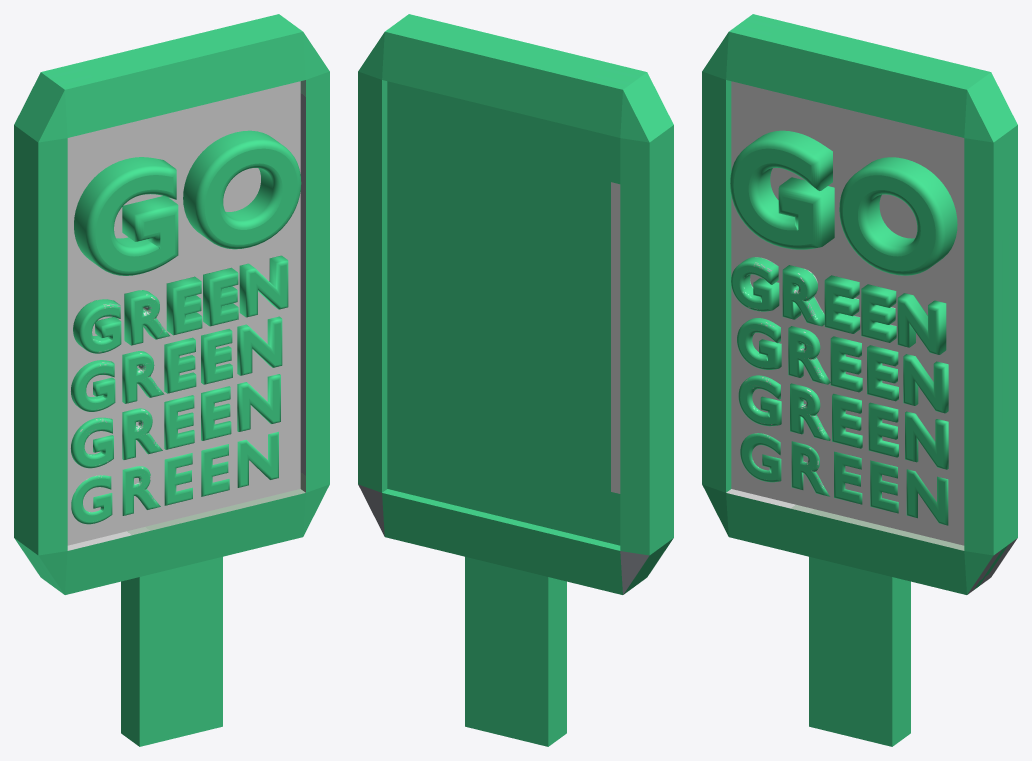
Rendered from SLOGAN.fbx.
3 views of the same model, side by side, from view 1: azimuth 30°, elevation 25°; view 2: azimuth 150°, elevation 25°; view 3: azimuth 330°, elevation 25° (orthographic).
Parts seen in each view (by area): view 1: Cube.001, Text.002, Cube, Text.007, Text.001, Text.006, Text.005; view 2: Cube.001, Cube; view 3: Cube.001, Text.002, Cube, Text.007, Text.001, Text.006, Text.005.
Boxes of the visible parts, x1,y1,x2,y2 form: Cube.001: (14, 14, 329, 594); Text.002: (74, 130, 301, 275); Cube: (121, 556, 222, 746); Text.007: (73, 255, 288, 353); Text.001: (71, 316, 282, 411); Text.006: (71, 374, 280, 468); Text.005: (71, 431, 278, 524); Cube.001: (358, 14, 673, 594); Cube: (465, 556, 566, 746); Cube.001: (702, 14, 1017, 594); Text.002: (730, 130, 957, 275); Cube: (809, 556, 910, 746); Text.007: (731, 257, 946, 354); Text.001: (737, 318, 948, 413); Text.006: (738, 375, 948, 469); Text.005: (740, 433, 948, 525).
Size of the model in its own units: 22.48 by 49.96 by 5.31.
